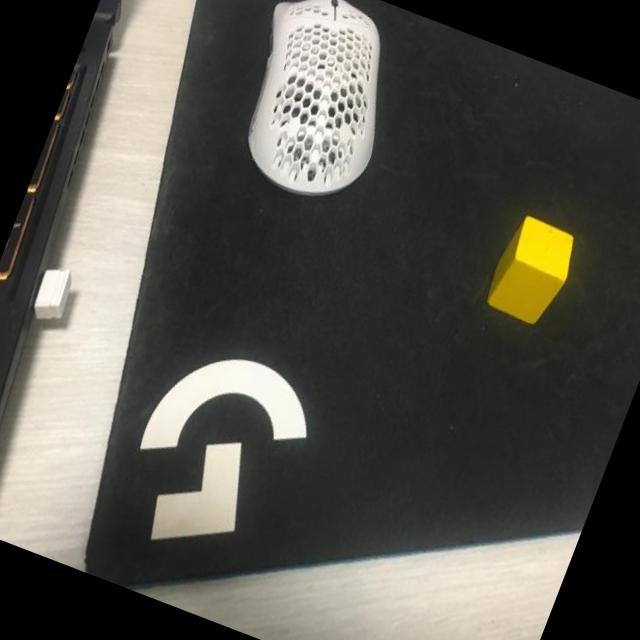yellow: (483, 214, 583, 330)
